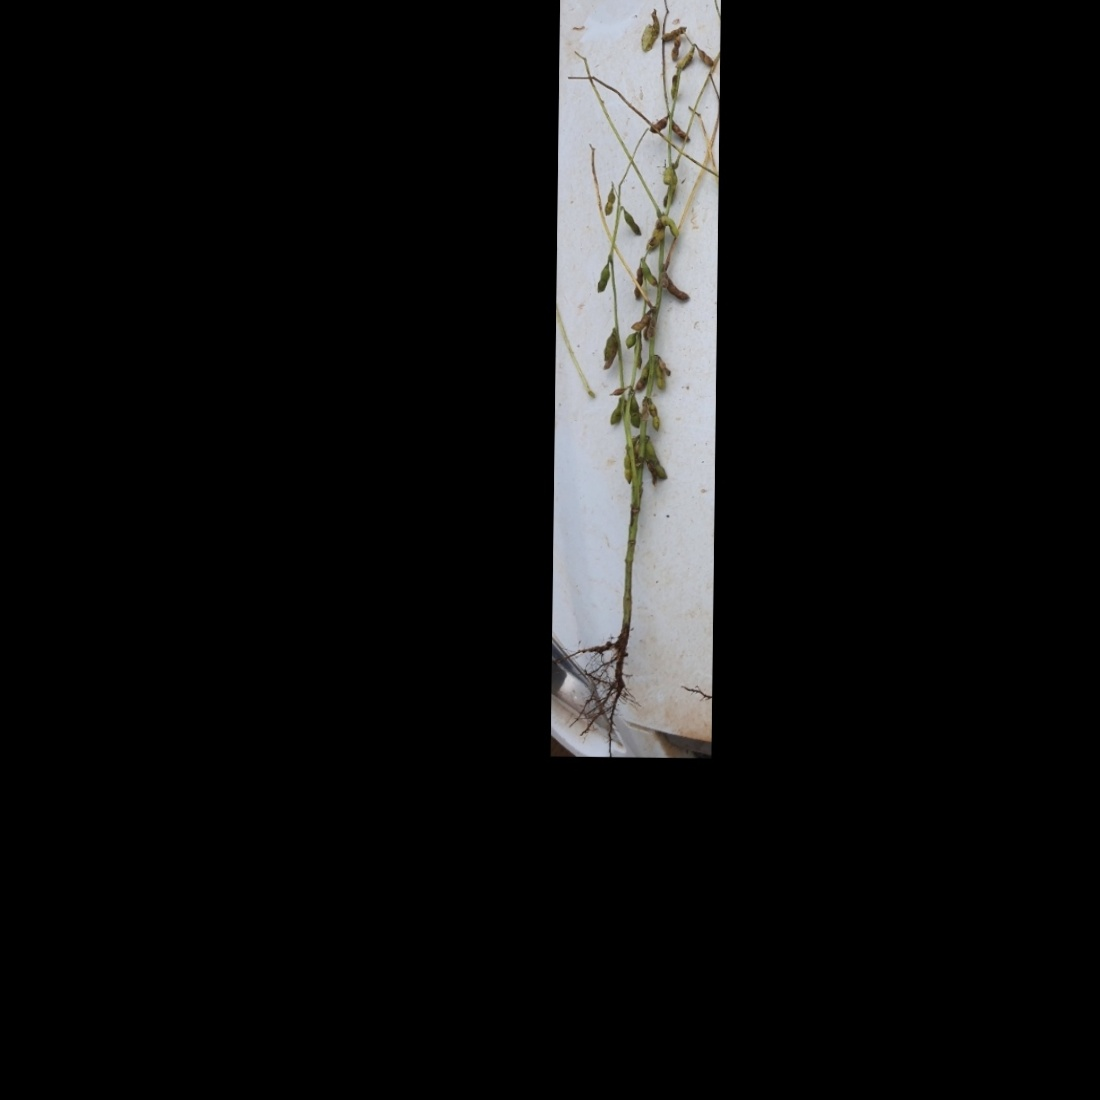pod: (663, 270, 694, 305), (618, 207, 644, 239), (669, 116, 692, 146), (662, 213, 682, 244), (627, 395, 644, 431), (661, 20, 685, 43), (694, 42, 715, 68), (640, 259, 659, 287), (650, 112, 672, 134), (645, 399, 660, 431), (621, 451, 634, 486), (603, 186, 618, 216), (596, 263, 610, 293), (608, 398, 623, 428), (669, 36, 684, 61), (668, 71, 678, 101), (660, 166, 672, 189), (623, 332, 636, 352)
soy: (561, 6, 718, 739)
